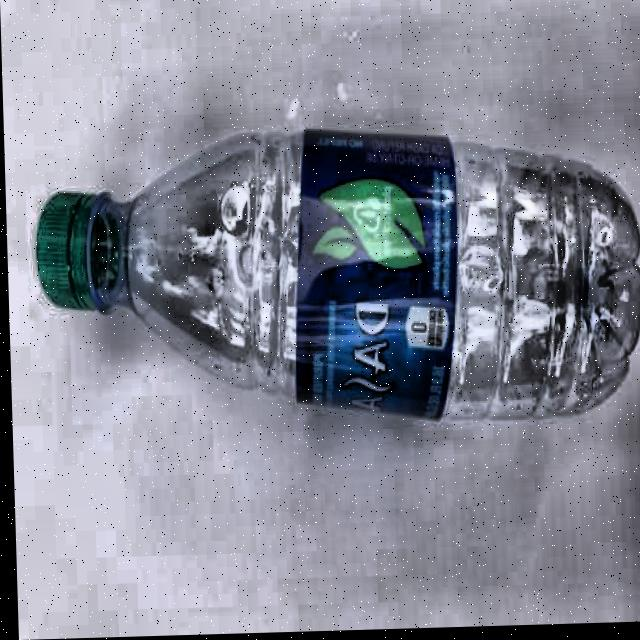plastic: (31, 114, 640, 432)
